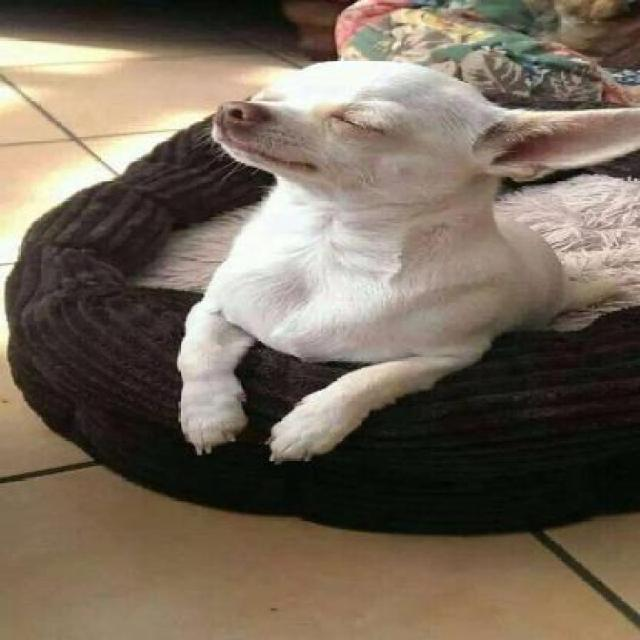animals: (120, 56, 640, 482)
